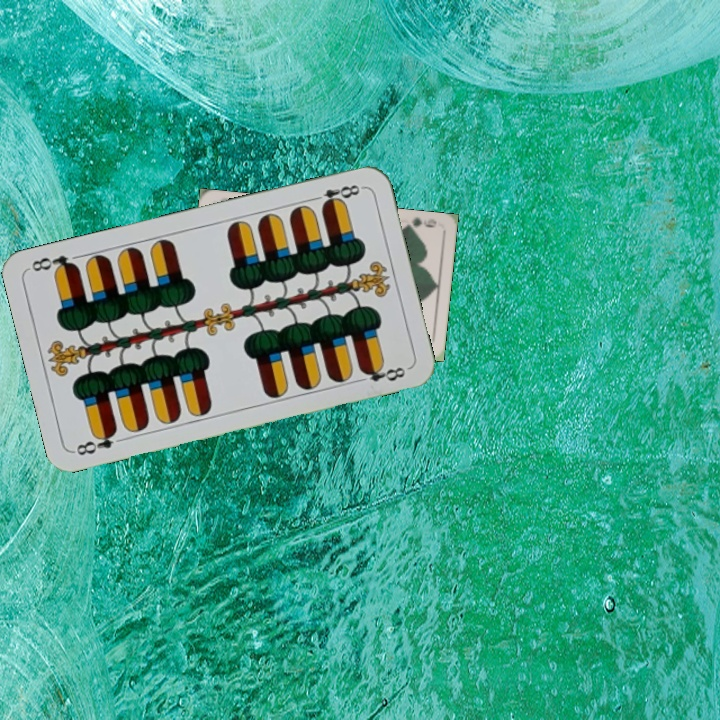E8: (307, 180, 366, 211), (72, 425, 120, 458)
G9: (400, 213, 439, 233)
